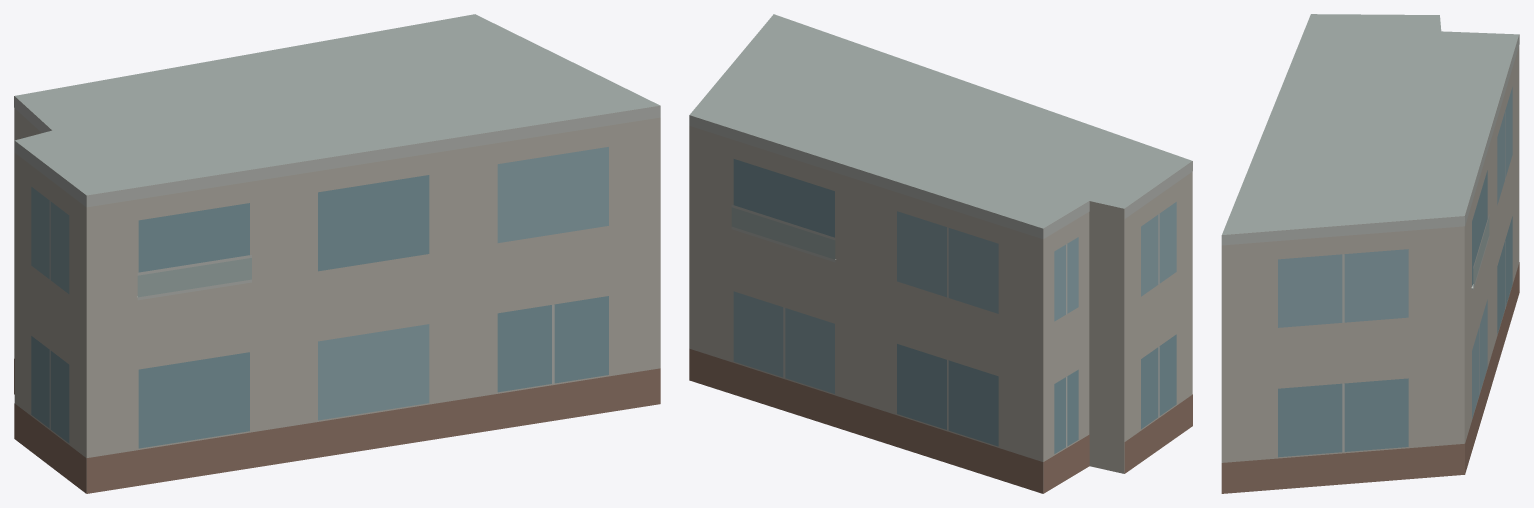
Rendered from survey-upis-32488316.glb.
The picture shows the model from 3 angles, left to right: view 1: azimuth 30°, elevation 25°; view 2: azimuth 150°, elevation 25°; view 3: azimuth 270°, elevation 25°; orthographic projection. The views are drawn at different scales.
Parts seen in each view (by area): view 1: survey-upis-32488316.tmp; view 2: survey-upis-32488316.tmp; view 3: survey-upis-32488316.tmp.
Boxes of the visible parts, x1,y1,x2,y2 form: survey-upis-32488316.tmp: (14,14,660,493); survey-upis-32488316.tmp: (689,14,1192,493); survey-upis-32488316.tmp: (1221,14,1519,493).
Size of the model in its own units: 11.19 by 6.1 by 6.37.
